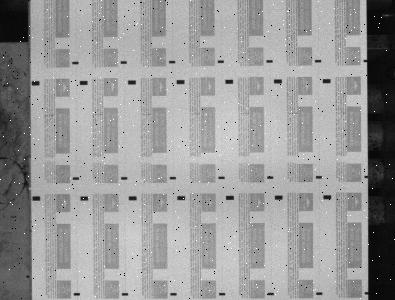backgroundclutter: (26, 275, 30, 278)
incorrect qblock: (364, 175, 369, 178), (365, 292, 369, 295), (364, 59, 367, 62)
qblock: (176, 79, 185, 84), (275, 195, 283, 200), (226, 195, 234, 200), (128, 80, 136, 85), (32, 196, 40, 201), (225, 79, 233, 84), (31, 81, 40, 85), (322, 79, 331, 83), (129, 196, 137, 200), (177, 196, 185, 200), (80, 196, 88, 200), (323, 195, 331, 199), (80, 81, 88, 85), (274, 79, 282, 83)
smallqblock: (170, 292, 177, 296), (121, 292, 128, 296), (169, 60, 176, 64), (219, 292, 226, 295), (73, 293, 80, 296), (72, 61, 79, 64), (316, 292, 323, 295), (120, 61, 127, 64), (266, 60, 273, 63), (217, 60, 224, 63), (267, 176, 274, 179), (218, 176, 225, 179), (72, 177, 79, 180), (121, 177, 128, 180), (268, 292, 274, 295), (315, 60, 321, 63), (316, 176, 322, 179), (170, 176, 176, 179)
